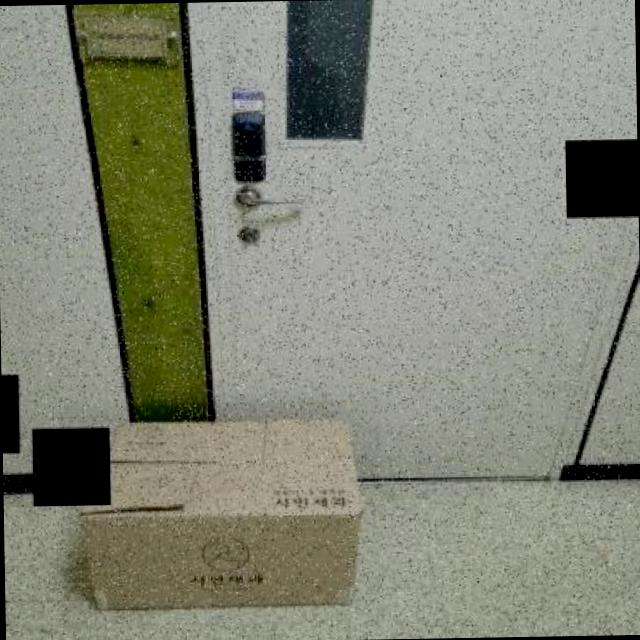box: (57, 398, 384, 630)
